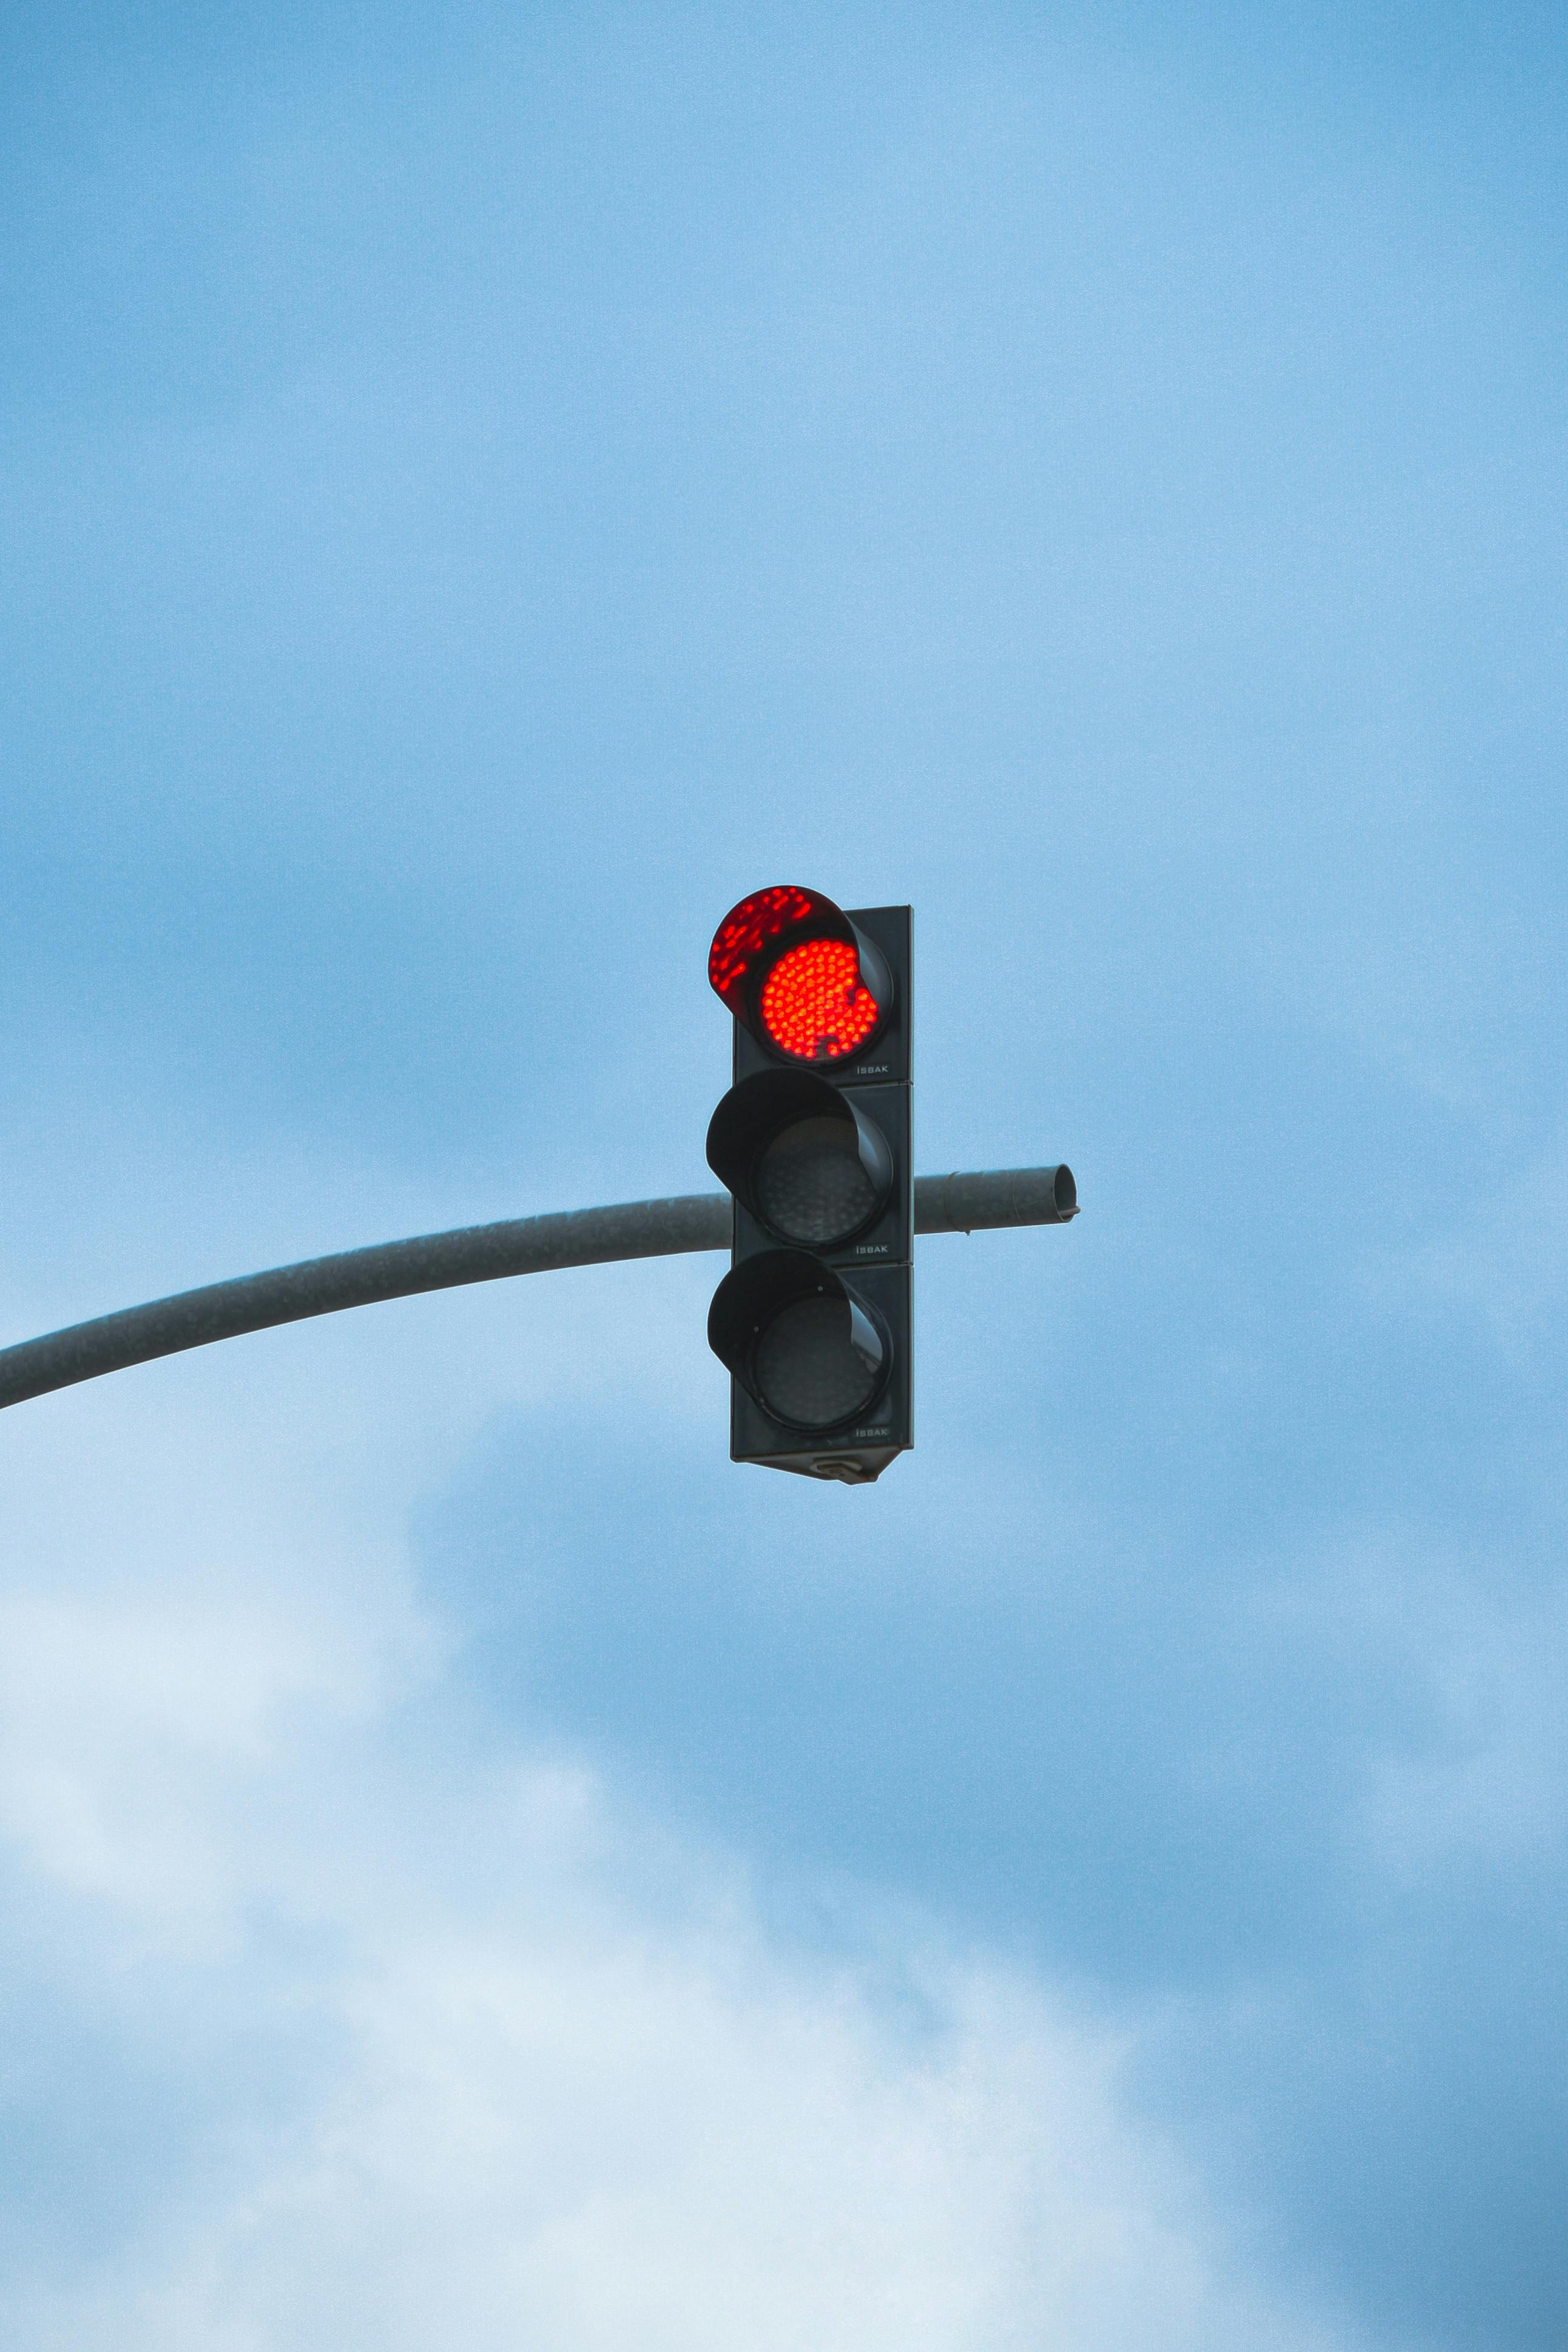trfl: (672, 887, 954, 1477)
